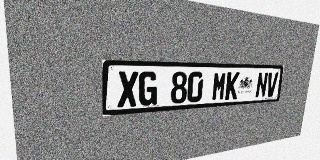0: (187, 72, 204, 103)
8: (170, 72, 188, 104)
G: (138, 71, 158, 106)
K: (225, 72, 240, 100)
M: (211, 72, 227, 101)
N: (255, 72, 268, 98)
V: (265, 72, 278, 97)
X: (117, 71, 138, 108)
